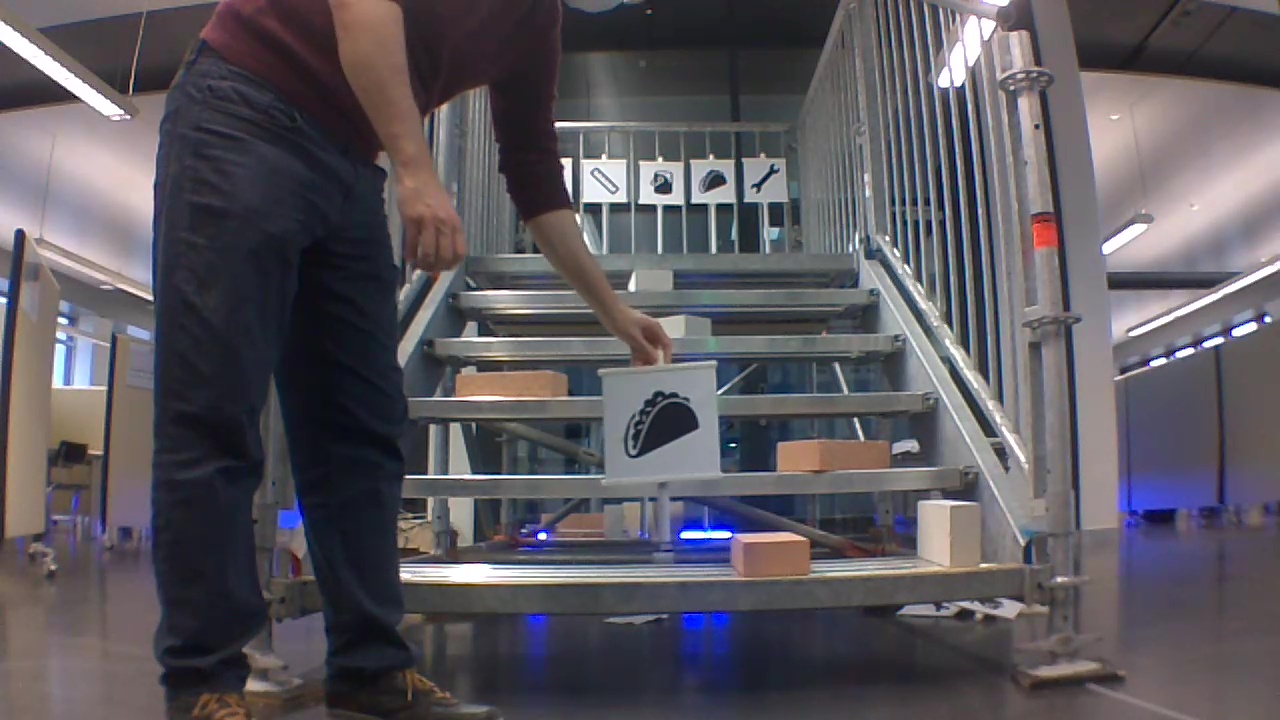brick: (918, 500, 981, 567), (730, 531, 809, 576), (777, 439, 888, 471), (456, 370, 566, 396), (626, 270, 672, 289)
bucket: (647, 168, 676, 199)
edge: (405, 565, 1024, 612), (402, 467, 972, 497)
ruler: (586, 166, 620, 197)
taco: (621, 383, 702, 460), (693, 165, 729, 195)
wrench: (747, 159, 783, 198)
